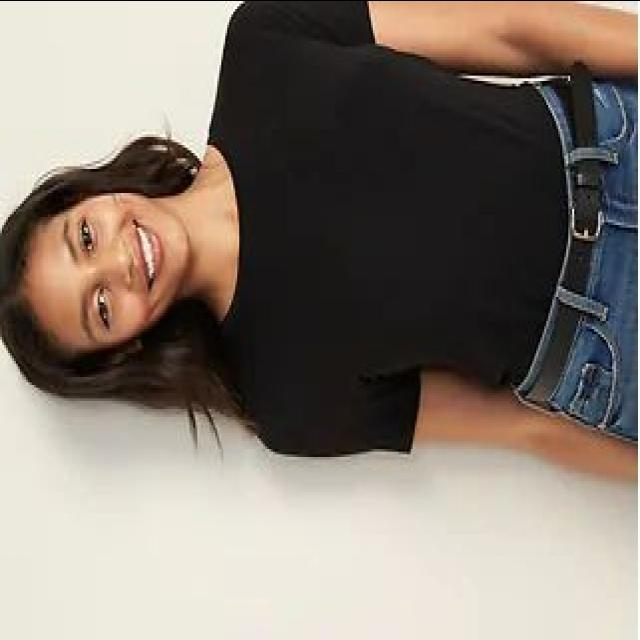shoulder: (207, 1, 320, 460)
